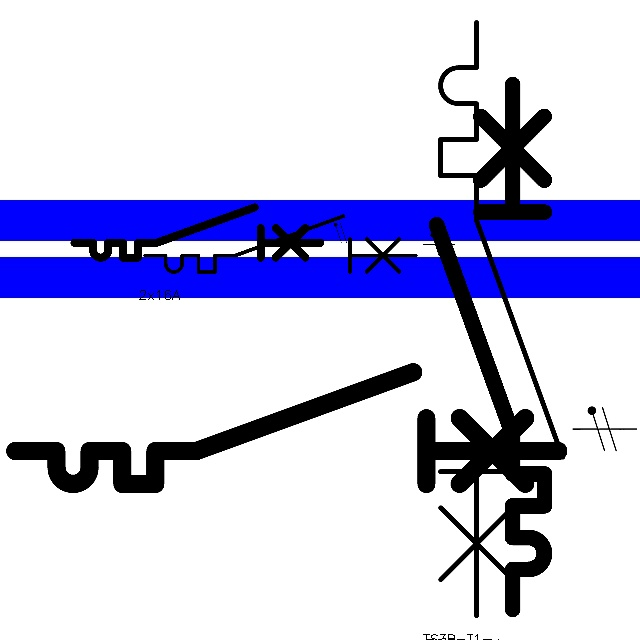interruptor_termomagnetico: (425, 7, 578, 631), (1, 358, 572, 498), (423, 71, 558, 623), (138, 209, 423, 279), (68, 201, 326, 264)
